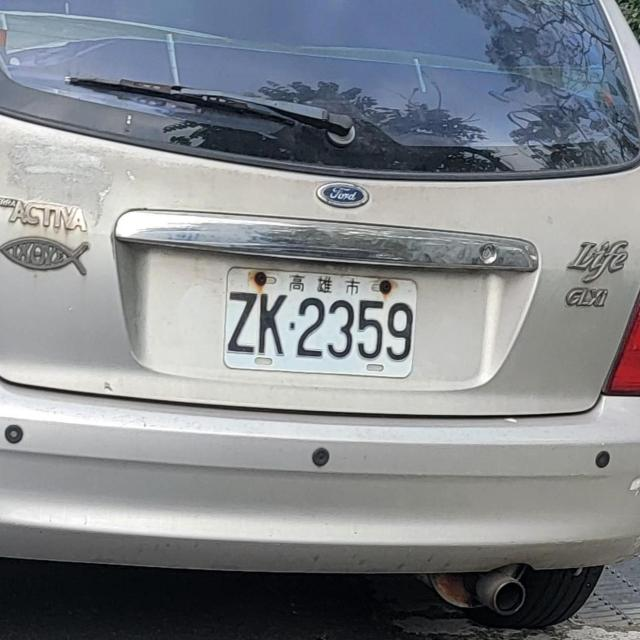W: (215, 259, 424, 386)
